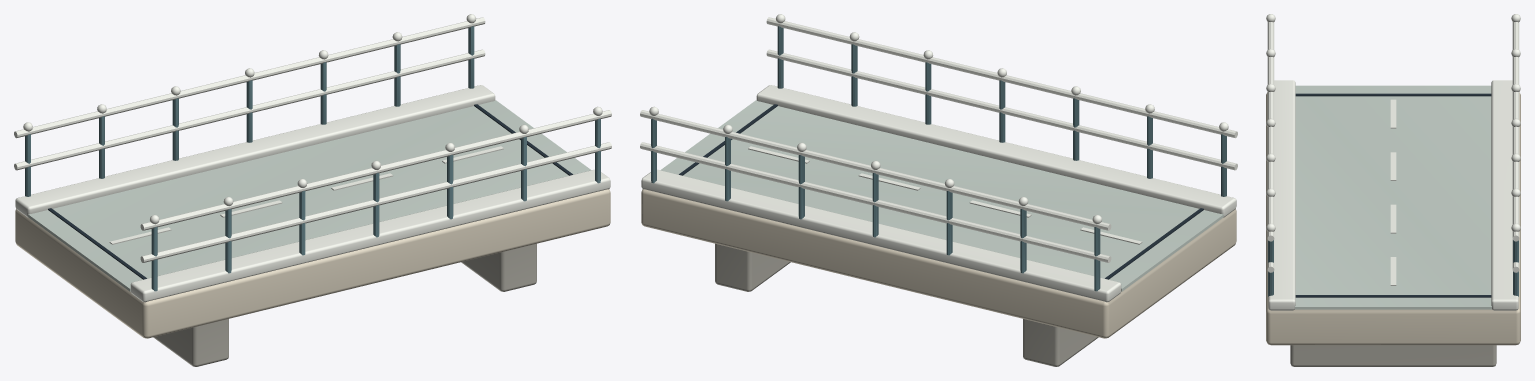
The model's file is bridge.glb.
3 views of the same model, side by side, from view 1: azimuth 30°, elevation 25°; view 2: azimuth 150°, elevation 25°; view 3: azimuth 270°, elevation 25° (orthographic). The views are drawn at different scales.
Visible parts, largest first — view 1: walkway, bridge asphalt, bridge deck, bridge upright, bridge pier, deck expansion joint; view 2: walkway, bridge asphalt, bridge deck, bridge upright, bridge pier, deck expansion joint; view 3: bridge asphalt, walkway, bridge deck, bridge pier, deck expansion joint, bridge upright.
Boxes of the visible parts, box(x1,y1,x2,y2) form: walkway: box(14, 14, 611, 302); bridge asphalt: box(28, 100, 591, 291); bridge deck: box(15, 189, 610, 338); bridge upright: box(25, 26, 600, 291); bridge pier: box(153, 243, 536, 366); deck expansion joint: box(48, 104, 572, 279); walkway: box(640, 14, 1237, 302); bridge asphalt: box(660, 100, 1223, 291); bridge deck: box(641, 189, 1236, 338); bridge upright: box(651, 26, 1226, 291); bridge pier: box(715, 243, 1098, 366); deck expansion joint: box(679, 104, 1203, 279); bridge asphalt: box(1295, 85, 1491, 309); walkway: box(1266, 14, 1520, 310); bridge deck: box(1266, 92, 1520, 345); bridge pier: box(1290, 345, 1496, 366); deck expansion joint: box(1295, 93, 1491, 297); bridge upright: box(1268, 240, 1518, 296).
Bounding box in the file's own units: 3.8 × 1.35 × 1.85.
